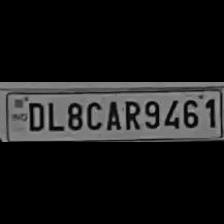1: (202, 96, 218, 130)
4: (161, 96, 179, 130)
6: (180, 96, 198, 130)
8: (63, 98, 83, 132)
9: (140, 96, 160, 130)
A: (102, 98, 122, 132)
C: (83, 98, 103, 132)
D: (24, 100, 46, 132)
L: (44, 99, 61, 133)
R: (121, 96, 141, 132)
